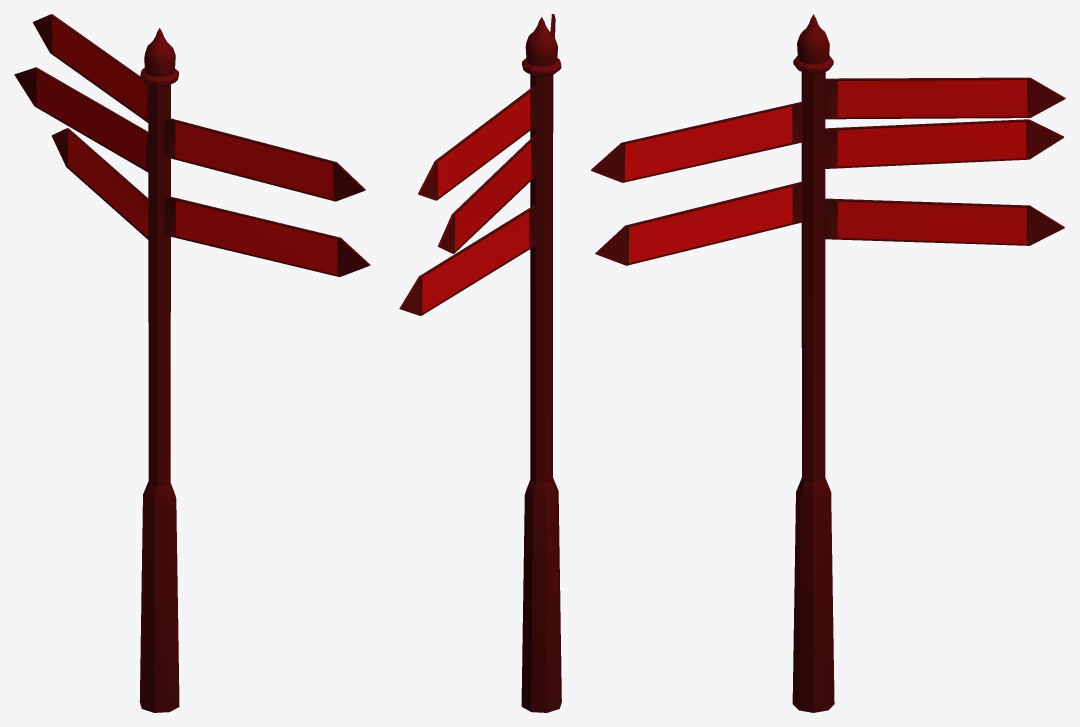
File: Signpost001.glb
3 renders of one model, left to right at view 1: azimuth 30°, elevation 25°; view 2: azimuth 150°, elevation 25°; view 3: azimuth 270°, elevation 25°, orthographic.
Visible parts, largest first — view 1: Signpost001; view 2: Signpost001; view 3: Signpost001.
Boxes of the visible parts, x1,y1,x2,y2 form: Signpost001: (14, 14, 370, 712); Signpost001: (399, 14, 561, 712); Signpost001: (591, 14, 1065, 712).
Bounding box in the file's own units: 2.81 × 14.42 × 8.91.
